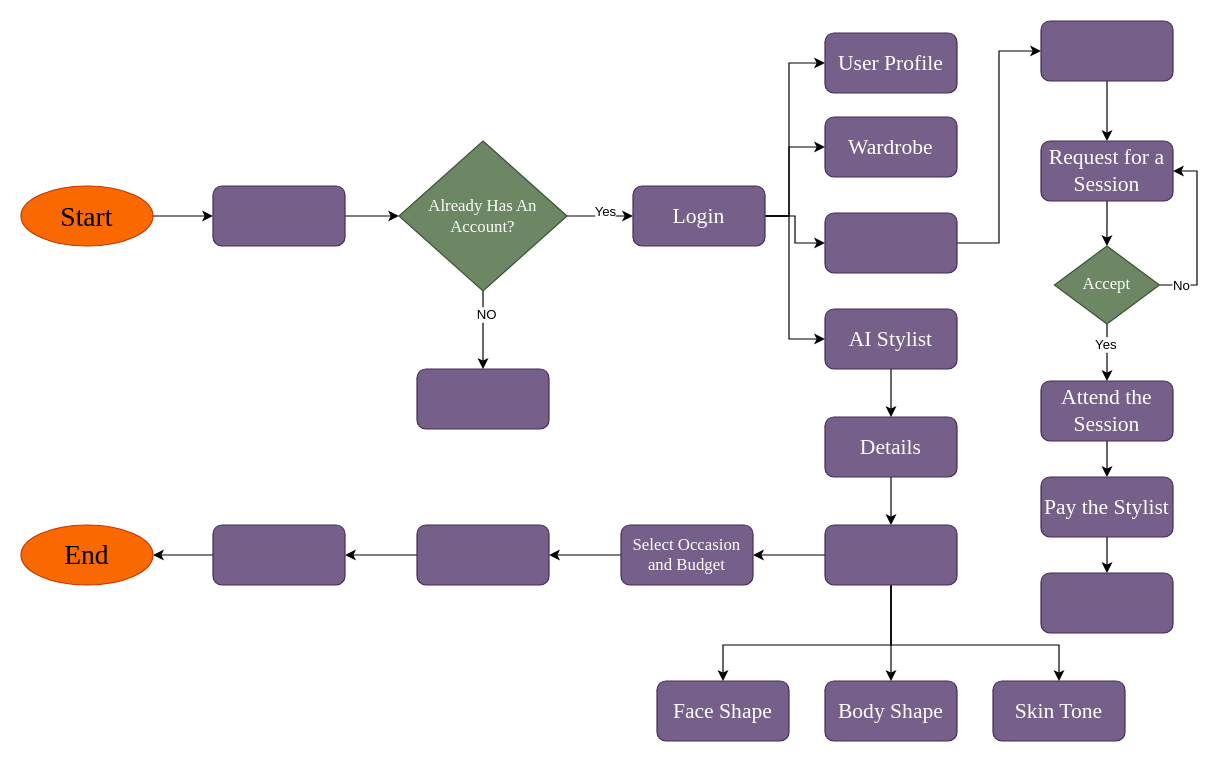
This 1228x762 diagram has some shape labels left out. The shapes that lost their labels are listed below. From the top down, each one's box as (x1, y1, x2, y2) in pixels, then its label:
(1040, 20, 1173, 81): Select Stylist
(212, 185, 345, 246): Sign Up
(824, 212, 957, 273): Find Human Stylist
(416, 368, 549, 429): Registration
(212, 524, 345, 585): Location-Based Finders to Buy Drip
(416, 524, 549, 585): Get Suggestions and Recommendations
(824, 524, 957, 585): Manual Input
(1040, 572, 1173, 633): Rate the Stylist
